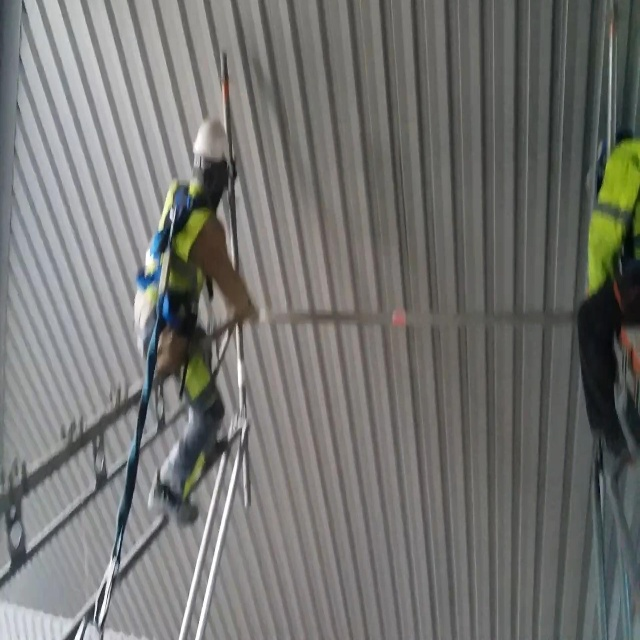Arnes_seguridad: (122, 179, 219, 359)
